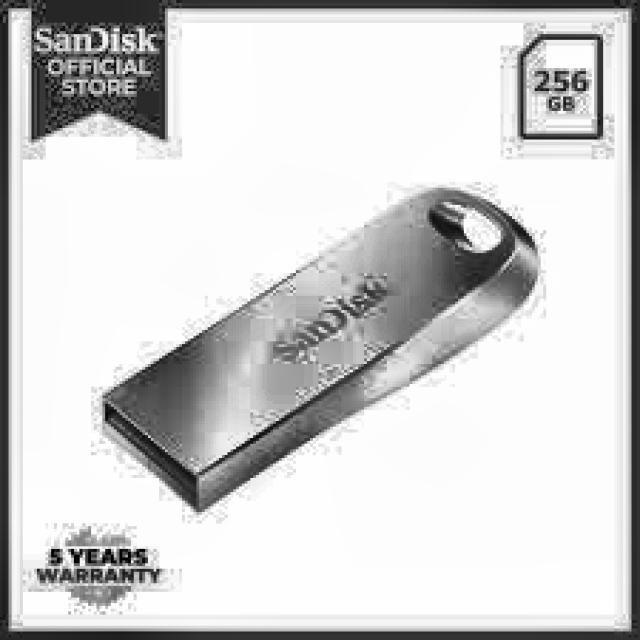Mug: (62, 142, 581, 539)
